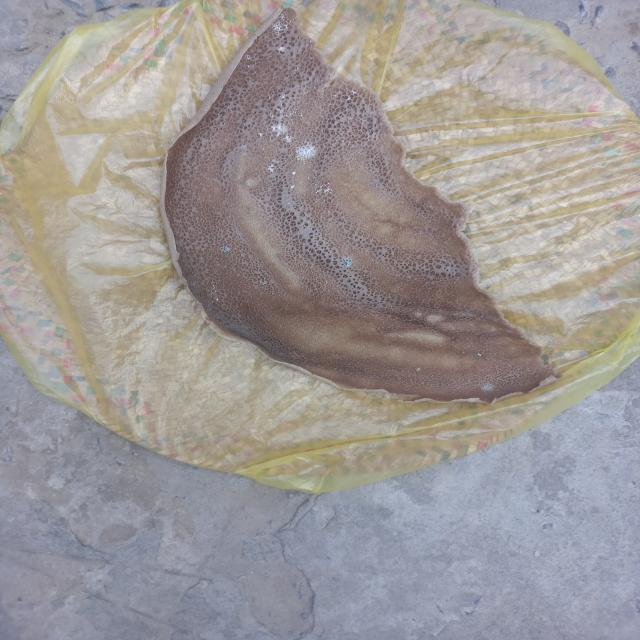injera_mold: (292, 141, 320, 162), (271, 13, 288, 34), (315, 182, 332, 200), (270, 123, 290, 136), (339, 254, 355, 268), (210, 282, 218, 304), (266, 162, 276, 176), (482, 382, 494, 392), (273, 106, 285, 115), (218, 245, 232, 252), (276, 46, 286, 54), (475, 351, 486, 358), (283, 136, 294, 142), (288, 110, 296, 118), (244, 55, 254, 61), (345, 95, 353, 102), (290, 170, 297, 177), (241, 144, 249, 150), (287, 184, 297, 188), (415, 367, 423, 372), (279, 95, 287, 100), (350, 90, 358, 95), (314, 170, 318, 179), (257, 132, 264, 137), (299, 111, 304, 118), (468, 398, 476, 402), (295, 66, 301, 71), (308, 55, 313, 60), (259, 281, 266, 284), (268, 95, 272, 100), (307, 176, 311, 180), (246, 65, 251, 68), (252, 63, 255, 68), (309, 40, 312, 44), (311, 190, 314, 194), (290, 19, 292, 24), (281, 102, 283, 107), (348, 185, 351, 188), (334, 94, 337, 97), (259, 38, 262, 41), (462, 351, 466, 353), (248, 286, 252, 288), (481, 316, 484, 318), (376, 182, 378, 185), (287, 203, 290, 205), (346, 162, 349, 164), (280, 160, 283, 162), (267, 102, 269, 105), (281, 36, 284, 38), (255, 44, 258, 46), (258, 62, 261, 64), (244, 66, 247, 68), (279, 100, 282, 102), (290, 97, 293, 99), (300, 198, 302, 200), (330, 160, 332, 162), (225, 139, 227, 141), (314, 87, 316, 89), (269, 102, 271, 104), (297, 100, 299, 102), (286, 41, 289, 42), (289, 46, 291, 47)
